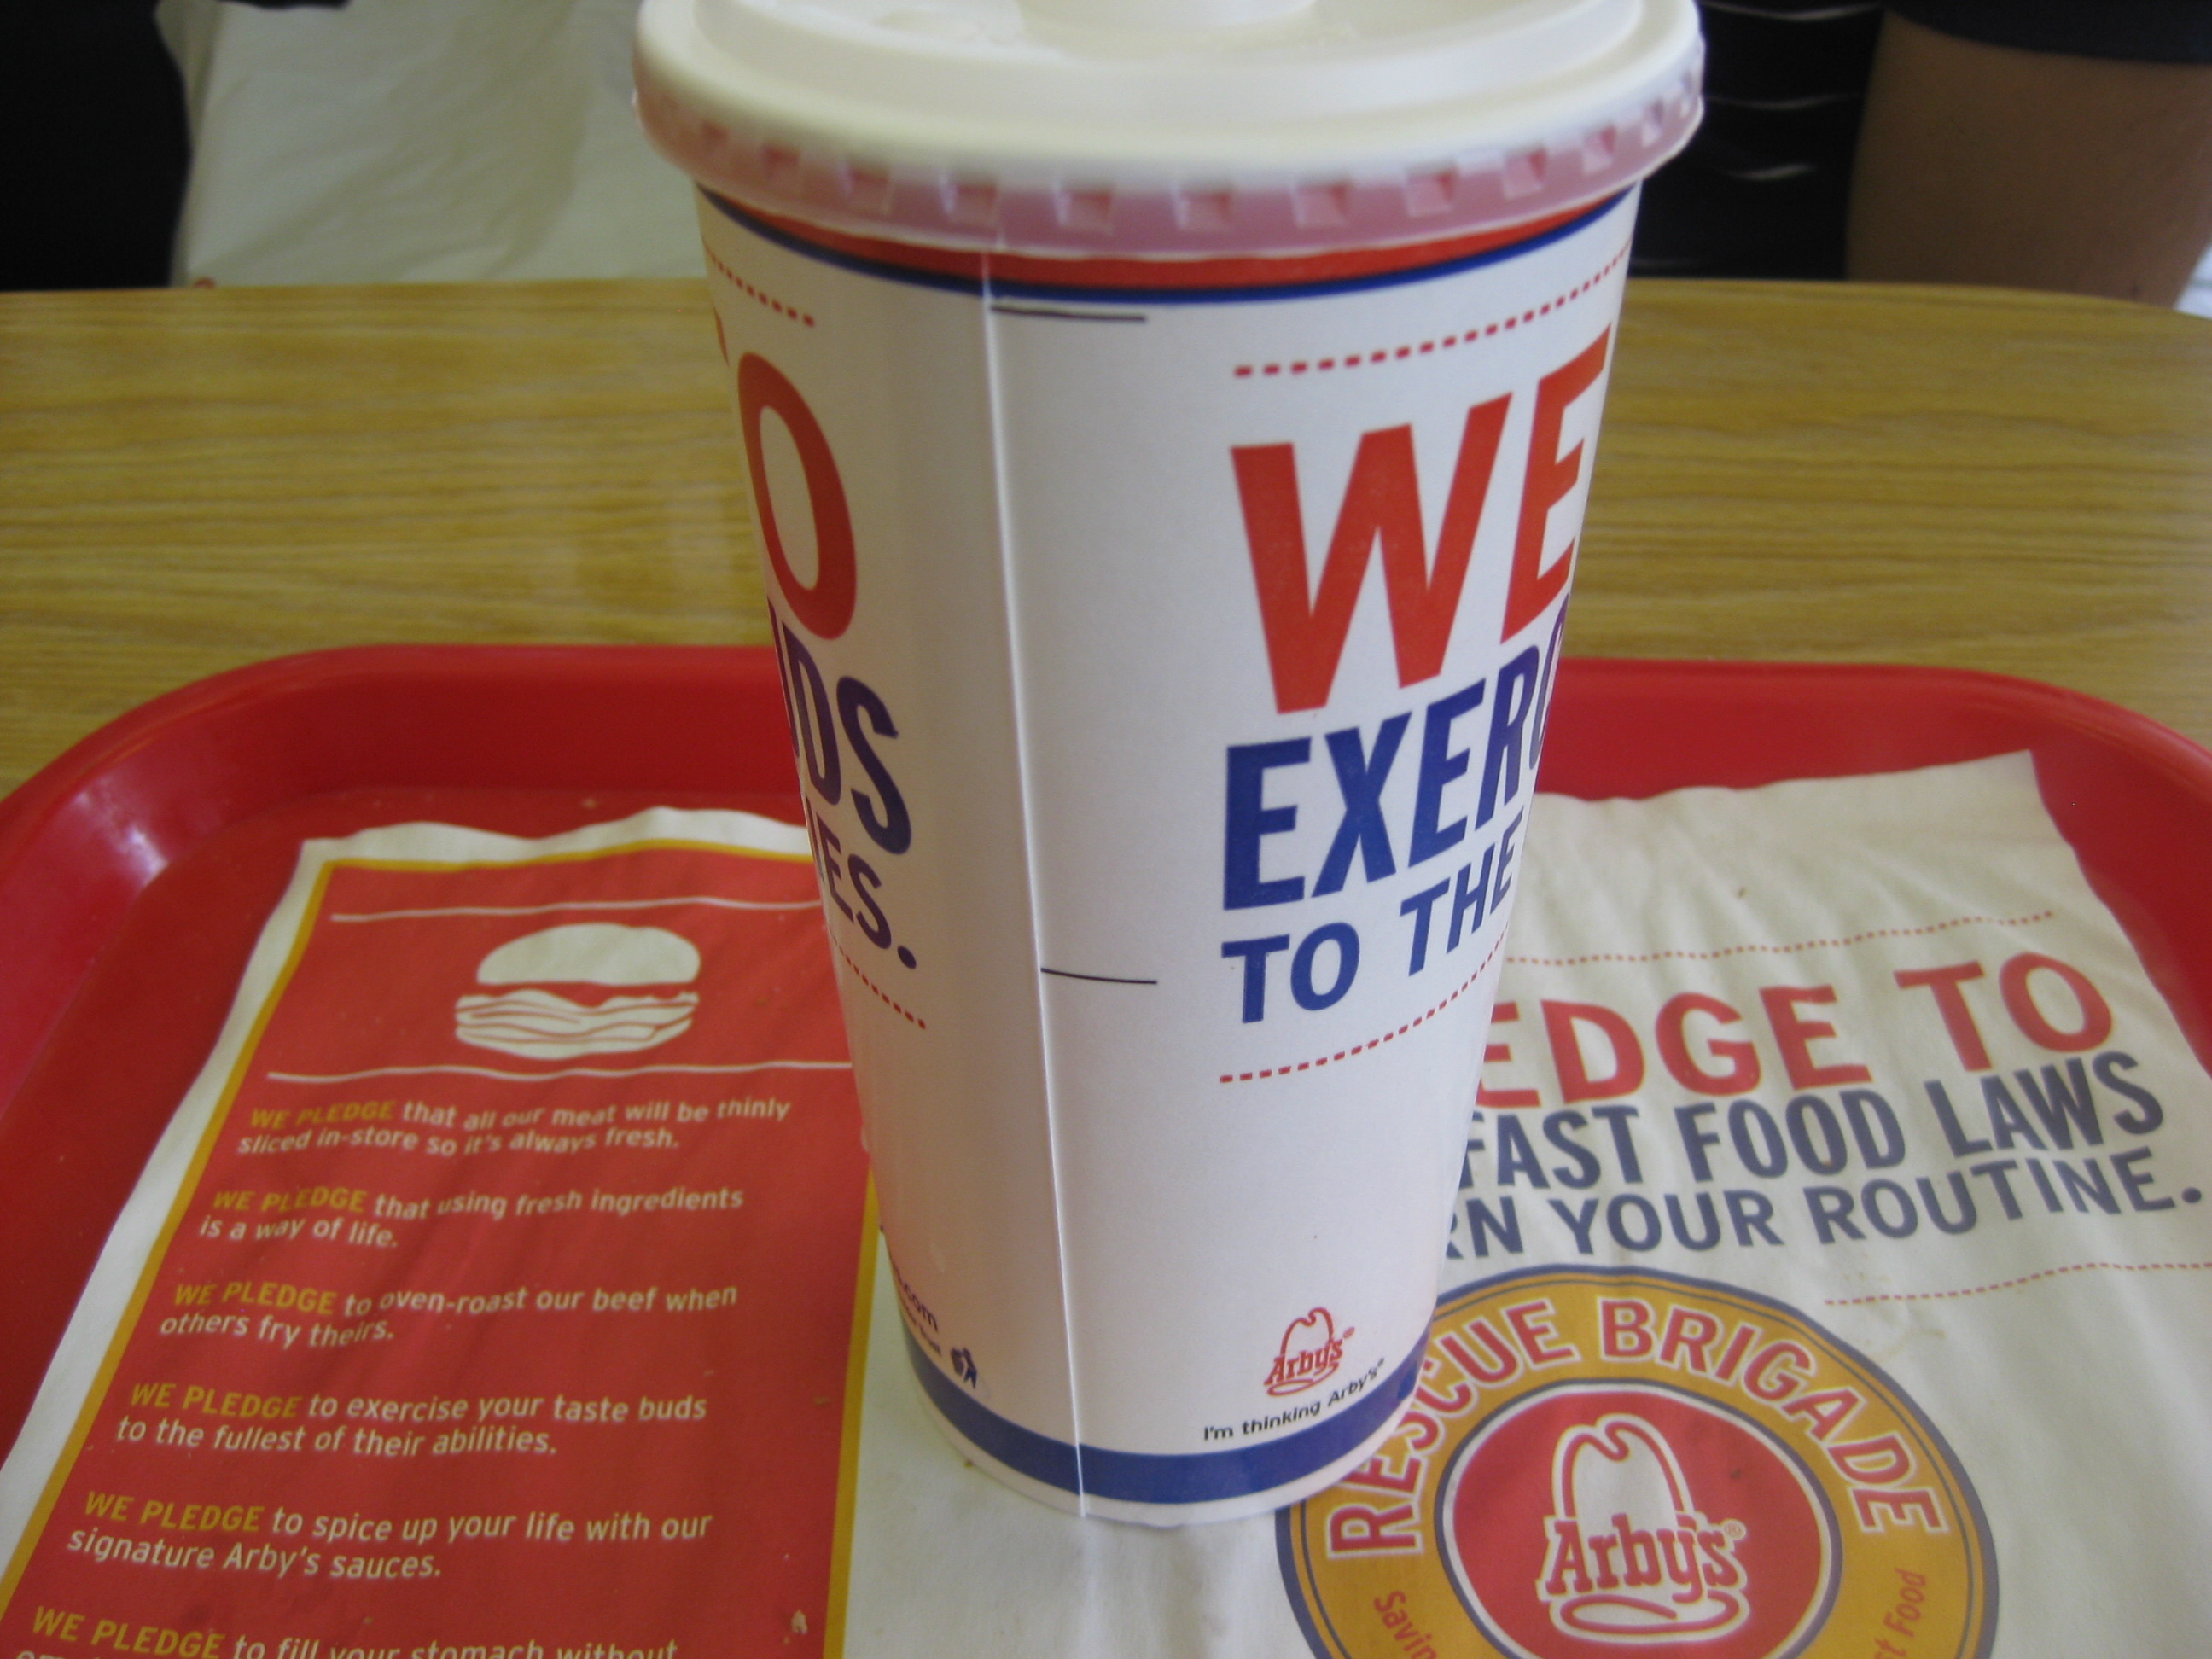drink: (618, 6, 1700, 1535)
